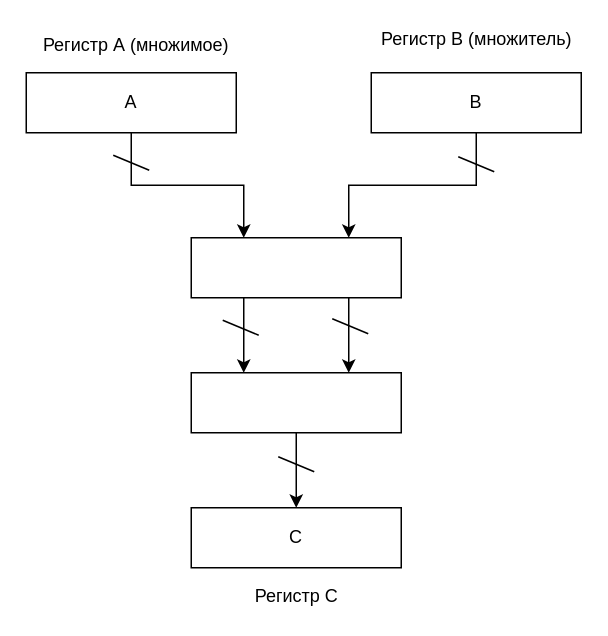
Image size: 608x636. Some labels were removed from this diagram. The shapes that lost their labels are listed below. From the top down, each one's box as (x1, y1, x2, y2) in pixels, then its label:
(190, 236, 401, 298): Блок обработки
(190, 371, 401, 433): Умножитель
